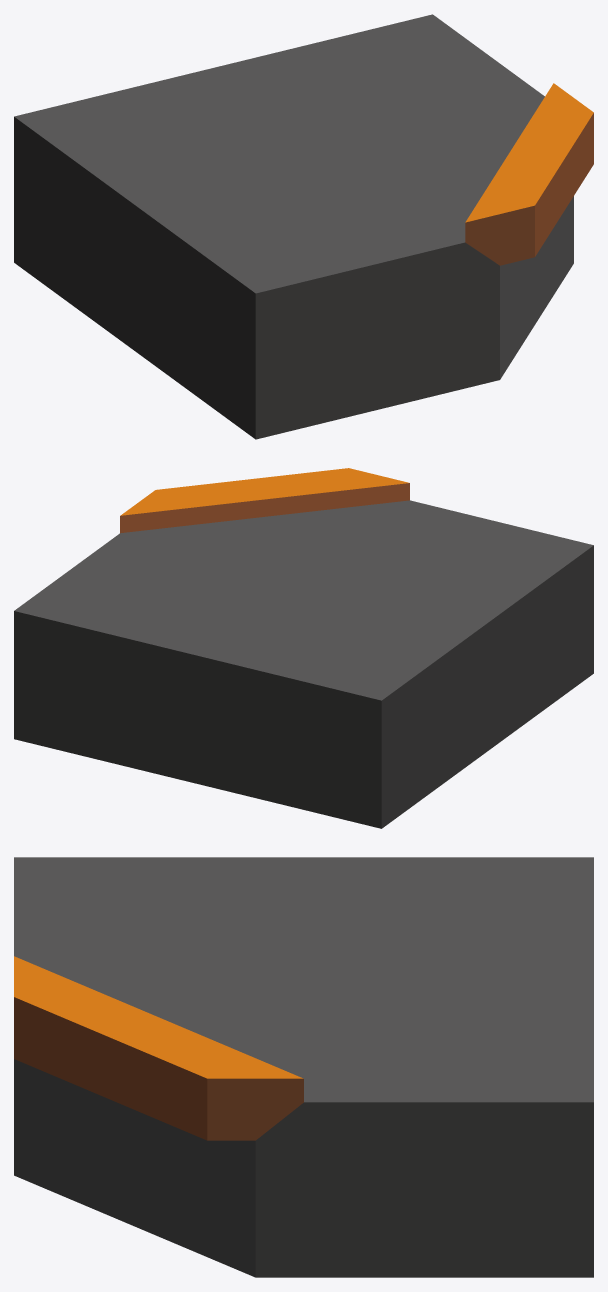
Rendered from COSMIC_F_Perimeter_1U_90_Inner.fbx.
The picture shows the model from 3 angles, top to bottom: view 1: azimuth 30°, elevation 25°; view 2: azimuth 150°, elevation 25°; view 3: azimuth 270°, elevation 25°; orthographic projection. The views are drawn at different scales.
Parts seen in each view (by area): view 1: COSMIC_F_Perimeter_1U_90_Inner; view 2: COSMIC_F_Perimeter_1U_90_Inner; view 3: COSMIC_F_Perimeter_1U_90_Inner.
Boxes of the visible parts, x1,y1,x2,y2 form: COSMIC_F_Perimeter_1U_90_Inner: (14, 14, 593, 439); COSMIC_F_Perimeter_1U_90_Inner: (14, 468, 593, 828); COSMIC_F_Perimeter_1U_90_Inner: (14, 857, 593, 1277).
Bounding box in the file's own units: 0.75 × 0.2839 × 0.75.
